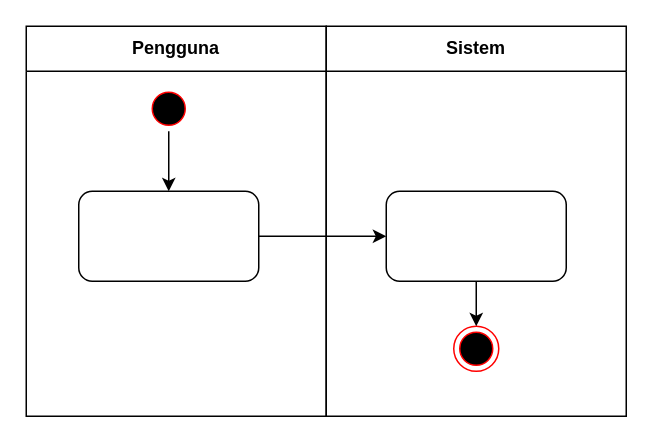
Some shapes in this 653 by 443 pixel diagram are drawn without their labels. The shapes that lost their labels are listed below. From the top down, each one's centre as x and y in pixels, then its label:
the point at 168,235: Menekan Tombol Settings
the point at 475,235: Menampilkan Panel Settings
